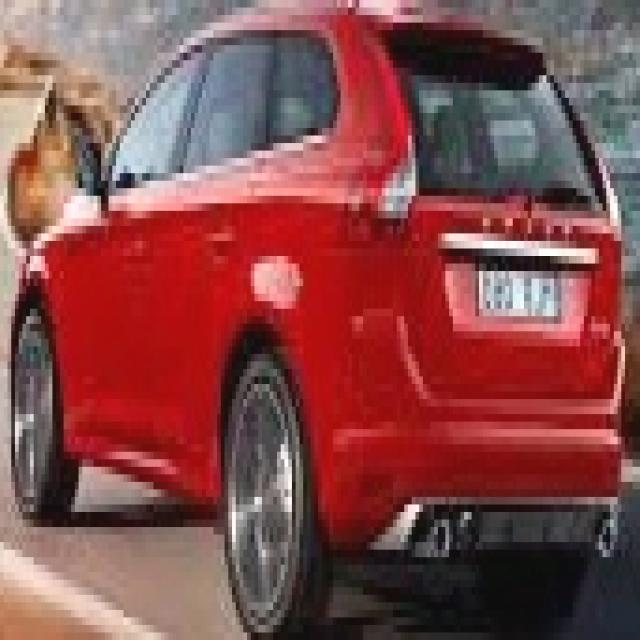red: (0, 7, 633, 632)
